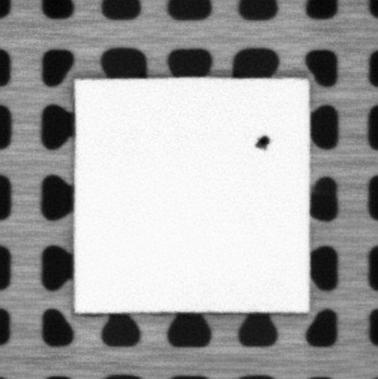DIE_INK: (253, 134, 271, 150)
